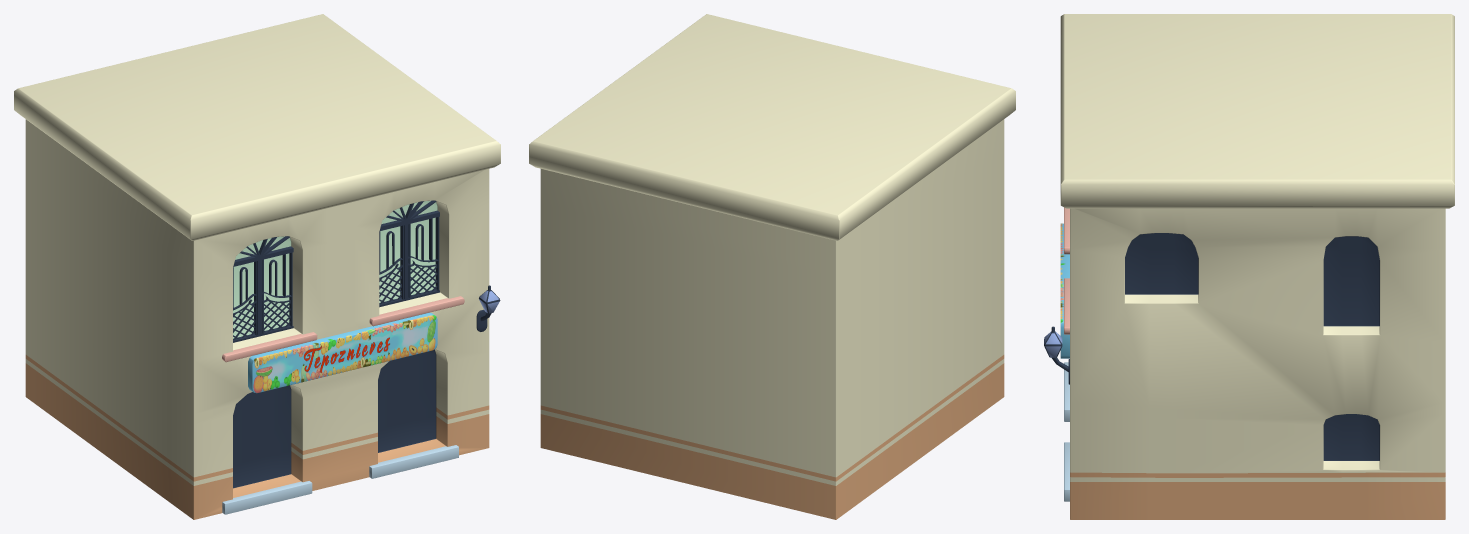
File: MOR_TEP_NIEVES.fbx
3 views of the same model, side by side, from view 1: azimuth 30°, elevation 25°; view 2: azimuth 150°, elevation 25°; view 3: azimuth 270°, elevation 25° (orthographic). The views are drawn at different scales.
Visible parts, largest first — view 1: MOR_TEP_NIEVES_LOD0; view 2: MOR_TEP_NIEVES_LOD0; view 3: MOR_TEP_NIEVES_LOD0.
Boxes of the visible parts, bbox=[...] form: MOR_TEP_NIEVES_LOD0: bbox=[14, 14, 500, 519]; MOR_TEP_NIEVES_LOD0: bbox=[529, 14, 1015, 519]; MOR_TEP_NIEVES_LOD0: bbox=[1044, 14, 1454, 519].
Size of what is drawn, in the model's own units: 400 by 378 by 411.
